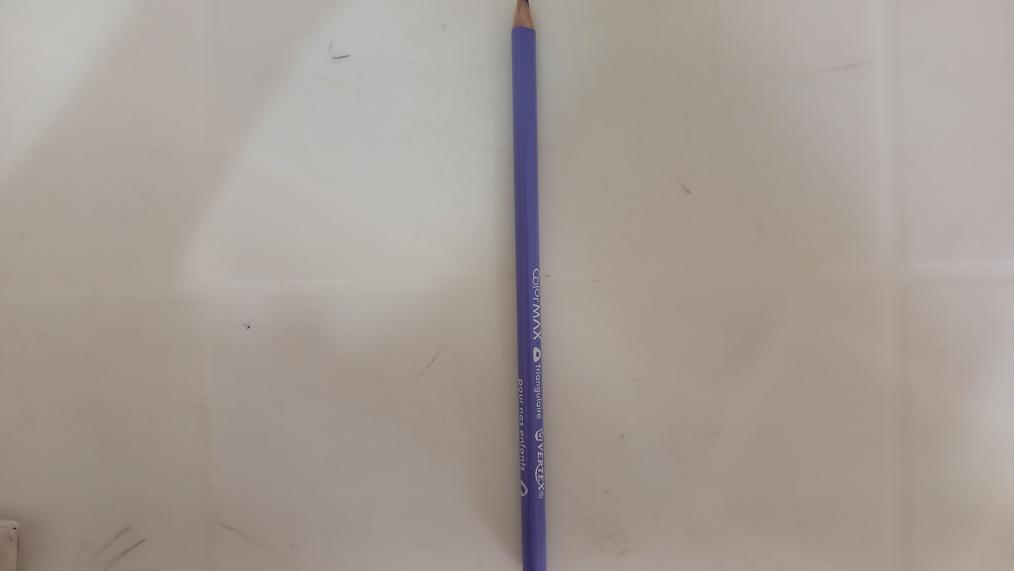Pencil: (513, 0, 544, 571)
